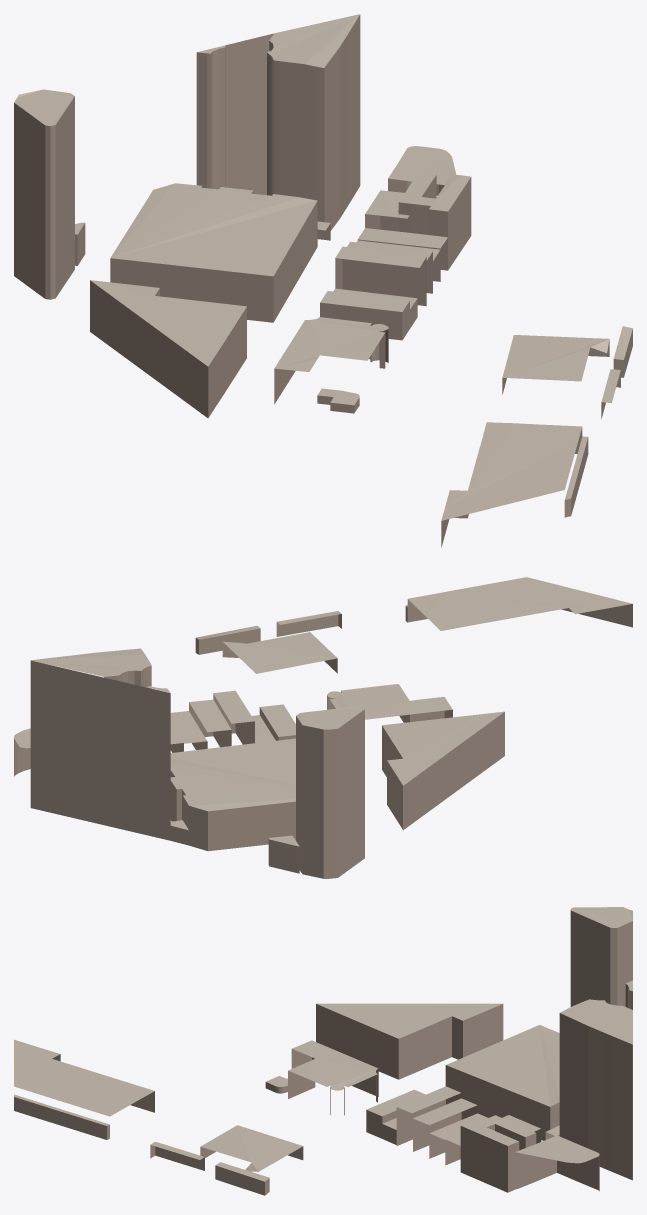
Rendered from epsg26910-1441-10893.datasf-height-preview.glb.
The picture shows the model from 3 angles, top to bottom: view 1: azimuth 30°, elevation 25°; view 2: azimuth 150°, elevation 25°; view 3: azimuth 270°, elevation 25°; orthographic projection. The views are drawn at different scales.
Parts seen in each view (by area): view 1: epsg26910-1441-10893-datasf-height-preview; view 2: epsg26910-1441-10893-datasf-height-preview; view 3: epsg26910-1441-10893-datasf-height-preview.
Part boxes in pixels (x1,y1,x2,y2): epsg26910-1441-10893-datasf-height-preview: (14, 14, 632, 547); epsg26910-1441-10893-datasf-height-preview: (14, 577, 632, 878); epsg26910-1441-10893-datasf-height-preview: (14, 907, 632, 1195).
Bounding box in the file's own units: 229 × 97.67 × 384.
